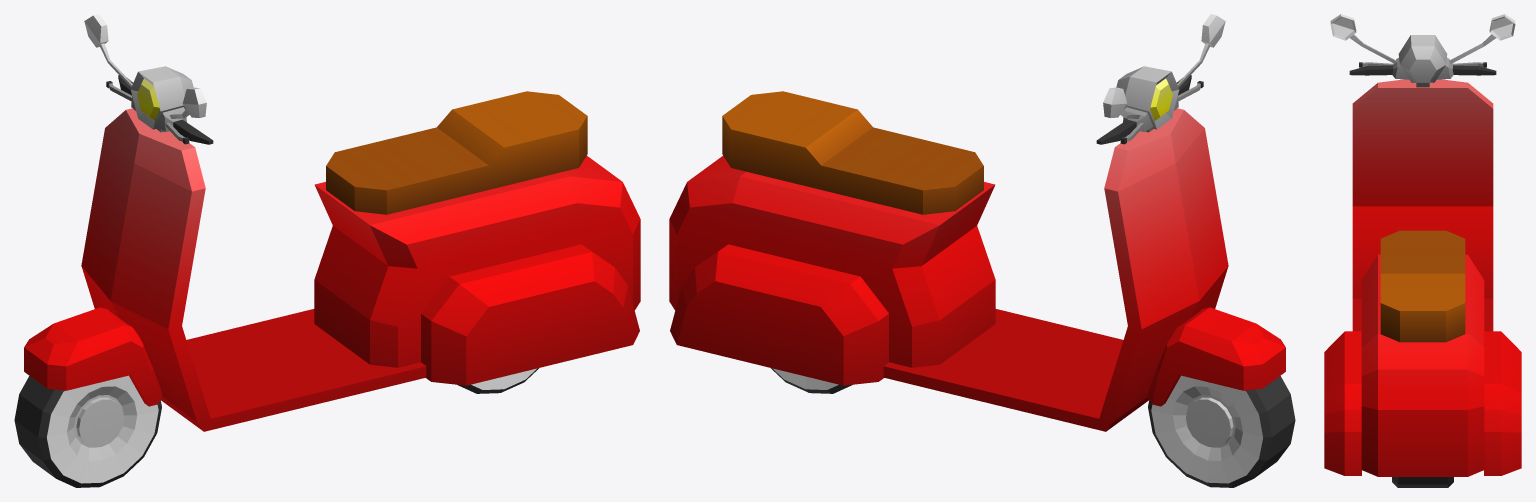
The model's file is Scooter.fbx.
The picture shows the model from 3 angles, left to right: view 1: azimuth 30°, elevation 25°; view 2: azimuth 150°, elevation 25°; view 3: azimuth 270°, elevation 25°; orthographic projection. The views are drawn at different scales.
Visible parts, largest first — view 1: G_Scooter, G_Scooter_FWheel, Ruller, G_Scooter_BWheel; view 2: G_Scooter, G_Scooter_FWheel, Ruller, G_Scooter_BWheel; view 3: G_Scooter, Ruller, G_Scooter_BWheel.
Part boxes in pixels (x1=…): G_Scooter: x1=24, y1=91, x2=640, y2=431; G_Scooter_FWheel: x1=14, y1=375, x2=161, y2=487; Ruller: x1=84, y1=14, x2=213, y2=144; G_Scooter_BWheel: x1=457, y1=368, x2=538, y2=393; G_Scooter: x1=669, y1=91, x2=1285, y2=431; G_Scooter_FWheel: x1=1148, y1=375, x2=1295, y2=487; Ruller: x1=1096, y1=14, x2=1225, y2=144; G_Scooter_BWheel: x1=771, y1=368, x2=852, y2=393; G_Scooter: x1=1324, y1=79, x2=1521, y2=476; Ruller: x1=1330, y1=14, x2=1515, y2=82; G_Scooter_BWheel: x1=1392, y1=477, x2=1453, y2=487.
Size of the model in its own units: 7.28 by 4.89 by 2.62.
